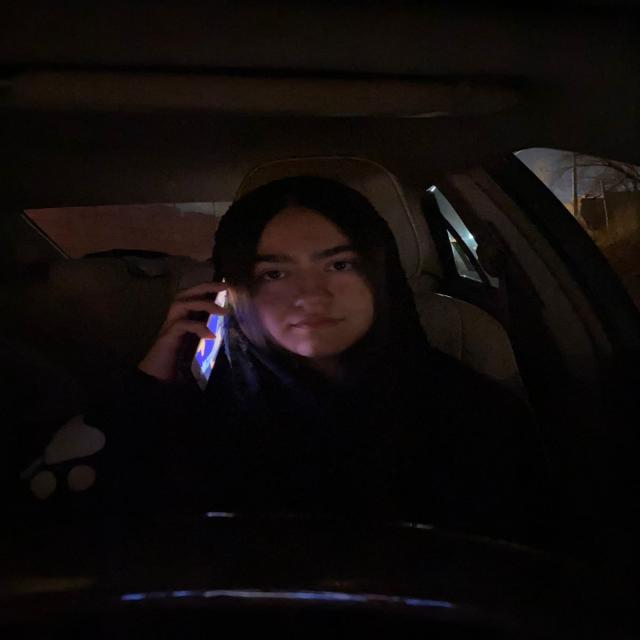phone: (176, 272, 232, 394)
